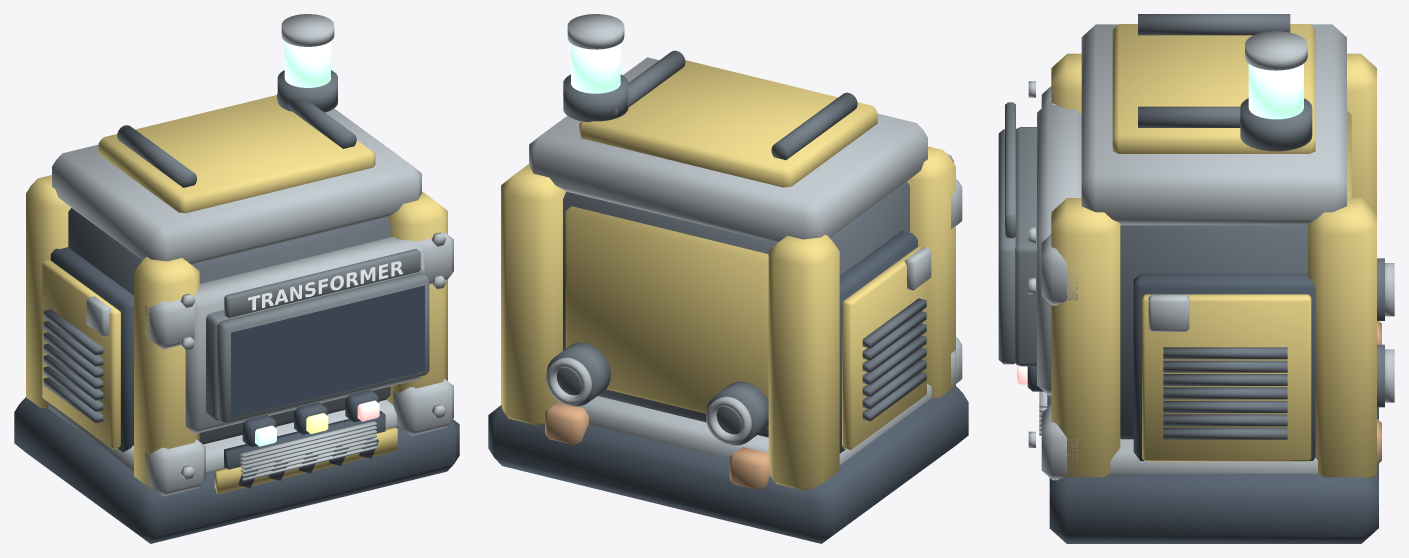
The model's file is transformer_ultra.glb.
3 renders of one model, left to right at view 1: azimuth 30°, elevation 25°; view 2: azimuth 150°, elevation 25°; view 3: azimuth 270°, elevation 25°, orthographic. The views are drawn at different scales.
Parts seen in each view (by area): view 1: TopCap_steel_legacy_10, Base_black_legacy_0, Frame_yellow_legacy_4, RoofPanel_yellow_legacy_11, LiveViewSurface_glass, Housing_dark_legacy_2, CornerGuard_steel_legacy_5, DisplayFrame_steel_legacy_13, ServiceDoor_yellow_legacy_7, LiveViewSurfaceFrame_frame, Detail_steel_legacy_24, SideVents_dark_legacy_8 (+13 smaller); view 2: Frame_yellow_legacy_4, Armor_yellow_legacy_3, Base_black_legacy_0, TopCap_steel_legacy_10, RoofPanel_yellow_legacy_11, Housing_dark_legacy_2, ServiceDoor_yellow_legacy_7, SideVents_dark_legacy_8, Skirt_steel_legacy_1, RearPort_dark_legacy_29, LiftRail_dark_legacy_12, RearPort_copper_legacy_31 (+7 smaller); view 3: Frame_yellow_legacy_4, TopCap_steel_legacy_10, Base_black_legacy_0, ServiceDoor_yellow_legacy_7, RoofPanel_yellow_legacy_11, Housing_dark_legacy_2, SideVents_dark_legacy_8, DisplayFrame_steel_legacy_13, SidePanel_black_legacy_6, LiftRail_dark_legacy_12, ScreenMount_frame, CornerGuard_steel_legacy_5 (+10 smaller).
Boxes of the visible parts, <box> form: TopCap_steel_legacy_10: <box>52,108,421,264</box>; Base_black_legacy_0: <box>14,397,459,543</box>; Frame_yellow_legacy_4: <box>26,175,447,491</box>; RoofPanel_yellow_legacy_11: <box>98,95,375,213</box>; LiveViewSurface_glass: <box>231,285,424,417</box>; Housing_dark_legacy_2: <box>68,208,390,444</box>; CornerGuard_steel_legacy_5: <box>145,232,453,496</box>; DisplayFrame_steel_legacy_13: <box>185,236,424,433</box>; ServiceDoor_yellow_legacy_7: <box>42,260,120,449</box>; LiveViewSurfaceFrame_frame: <box>217,272,429,423</box>; Detail_steel_legacy_24: <box>180,232,446,480</box>; SideVents_dark_legacy_8: <box>43,309,103,422</box>; Frame_yellow_legacy_4: <box>501,146,955,490</box>; Armor_yellow_legacy_3: <box>565,206,768,428</box>; Base_black_legacy_0: <box>488,386,968,543</box>; TopCap_steel_legacy_10: <box>529,57,927,242</box>; RoofPanel_yellow_legacy_11: <box>579,60,877,187</box>; Housing_dark_legacy_2: <box>563,182,909,437</box>; ServiceDoor_yellow_legacy_7: <box>842,246,926,450</box>; SideVents_dark_legacy_8: <box>862,298,926,421</box>; Skirt_steel_legacy_1: <box>557,384,931,464</box>; RearPort_dark_legacy_29: <box>546,342,768,445</box>; LiftRail_dark_legacy_12: <box>615,50,857,160</box>; RearPort_copper_legacy_31: <box>545,402,770,490</box>; Frame_yellow_legacy_4: <box>1051,53,1376,478</box>; TopCap_steel_legacy_10: <box>1081,24,1346,225</box>; Base_black_legacy_0: <box>1049,407,1378,543</box>; ServiceDoor_yellow_legacy_7: <box>1142,294,1311,461</box>; RoofPanel_yellow_legacy_11: <box>1112,24,1315,153</box>; Housing_dark_legacy_2: <box>1120,225,1307,439</box>; SideVents_dark_legacy_8: <box>1163,347,1287,439</box>; DisplayFrame_steel_legacy_13: <box>1037,102,1081,395</box>; SidePanel_black_legacy_6: <box>1133,273,1315,460</box>; LiftRail_dark_legacy_12: <box>1138,14,1290,127</box>; ScreenMount_frame: <box>1015,127,1036,366</box>; CornerGuard_steel_legacy_5: <box>1041,86,1077,480</box>.
Bounding box in the file's own units: 1.43 × 1.65 × 1.27.
